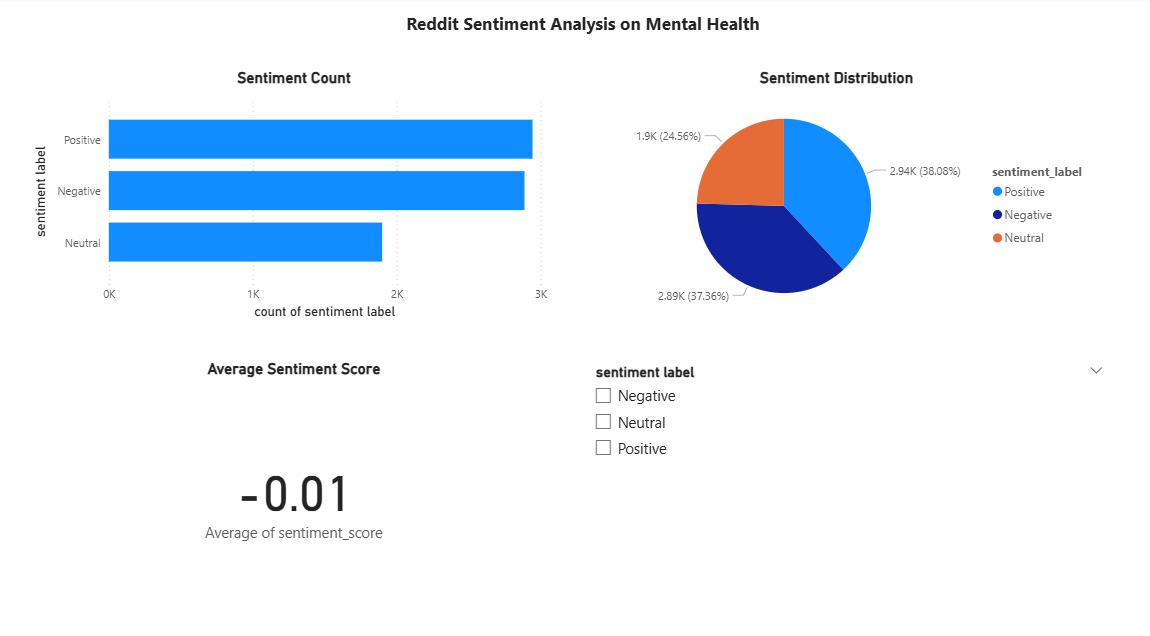

The page's visual inventory and layout, read from the dashboard file:
{"tool":"powerbi","page":{"name":"Page 1","canvas":[1280,720],"ordinal":0},"visuals":[{"type":"clusteredBarChart","title":" Sentiment Count","fields":{"Category":["sentiment_data (2).sentiment_label"],"Y":["CountNonNull(sentiment_data (2).sentiment_label)"]},"box":[43.9,79.6,581.8,279.9],"z":0},{"type":"card","title":"Average Sentiment Score","fields":{"Values":["Avg(sentiment_data (2).sentiment_score)"]},"box":[43.9,399.3,581.8,281.3],"z":1000},{"type":"pieChart","title":"Sentiment Distribution","fields":{"Category":["sentiment_data (2).sentiment_label"],"Y":["CountNonNull(sentiment_data (2).sentiment_label)"]},"box":[639.5,79.6,581.8,281.3],"z":2000},{"type":"slicer","fields":{"Values":["sentiment_data (2).sentiment_label"]},"box":[653.2,399.3,581.8,281.3],"z":3000},{"type":"textbox","title":"Reddit Sentiment Analysis on Mental Health ","box":[350,18.1,604.2,61.1],"z":4000}]}

Visuals, with their boxes in screenshot pixels (x1, y1, x2, y2), scaled from the page's 1280x720 canvas onto the 1150x636 screenshot:
" Sentiment Count" clusteredBarChart: locate(39, 70, 562, 318)
"Average Sentiment Score" card: locate(39, 353, 562, 601)
"Sentiment Distribution" pieChart: locate(575, 70, 1097, 319)
slicer - sentiment_data (2).sentiment_label: locate(587, 353, 1110, 601)
"Reddit Sentiment Analysis on Mental Health " textbox: locate(314, 16, 857, 70)
